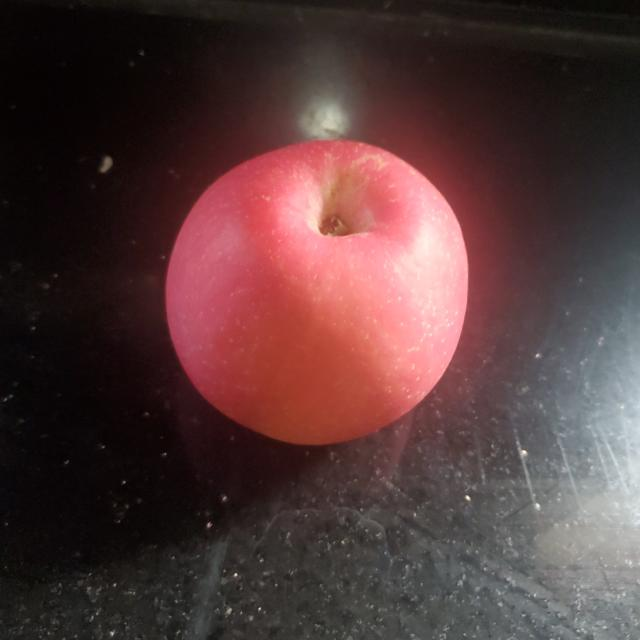apple: (164, 140, 465, 445)
